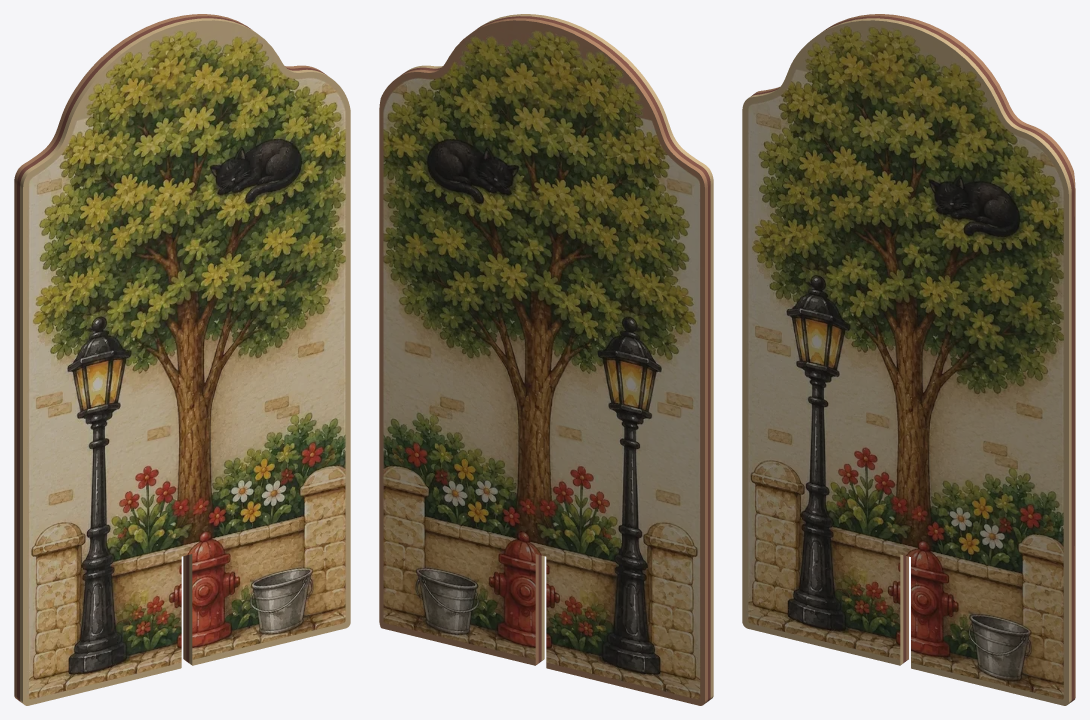
File: panel-a.glb
3 views of the same model, side by side, from view 1: azimuth 30°, elevation 25°; view 2: azimuth 150°, elevation 25°; view 3: azimuth 330°, elevation 25° (orthographic).
Parts seen in each view (by area): view 1: panel-a; view 2: panel-a; view 3: panel-a.
Part boxes in pixels (bbox=[...]): panel-a: bbox=[14, 14, 350, 705]; panel-a: bbox=[379, 14, 713, 705]; panel-a: bbox=[742, 14, 1075, 705].
Bounding box in the file's own units: 580 × 1090 × 27.
5 materials, 2 textured.
